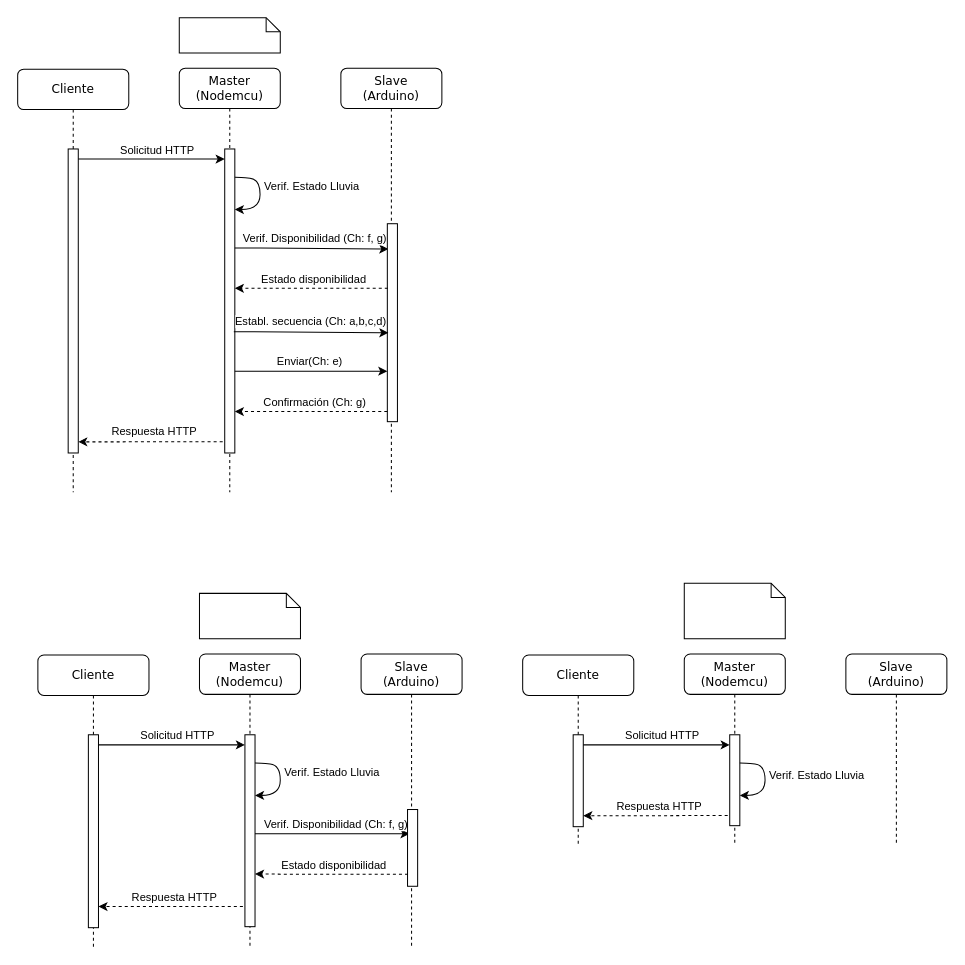
Some shapes in this 965 by 965 pixel diagram are drawn without their labels. Each missing label, with the box of its shape:
Solicitud declinada por esclavo: (198, 592, 300, 639)
Solicitud Declinada por lluvia: (683, 582, 785, 639)
Solicitud Exitosa: (178, 17, 280, 53)
